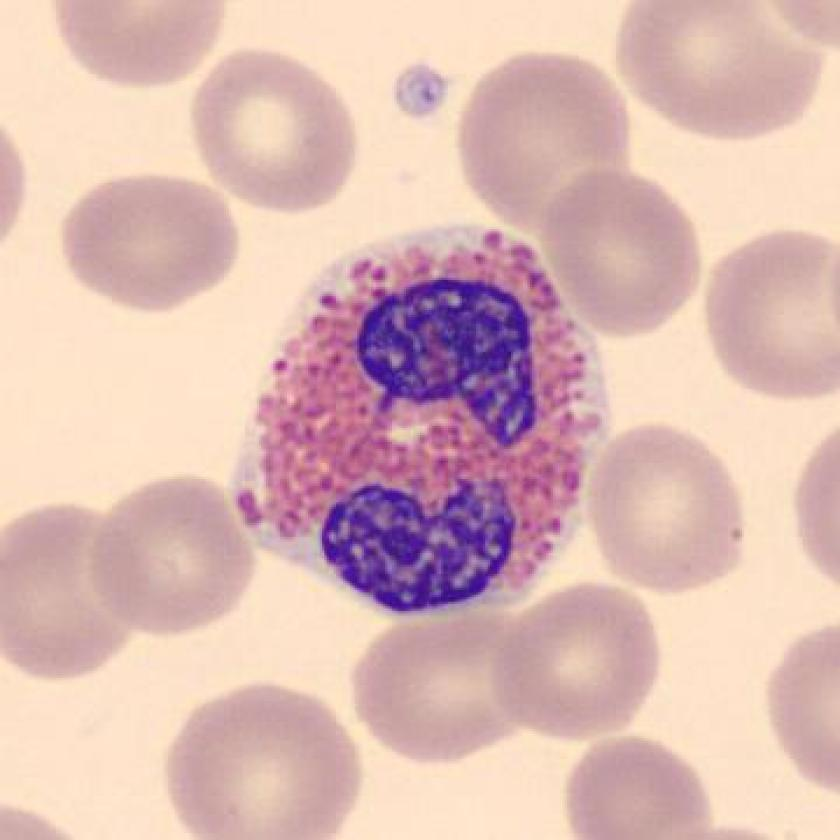eosinophil: (220, 207, 624, 633)
